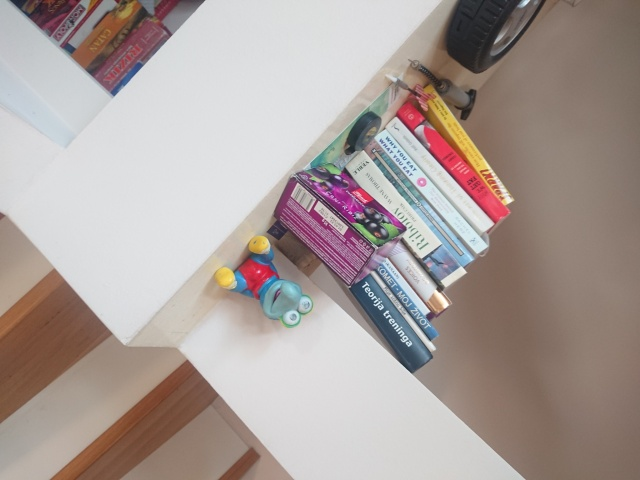Franck Black Currant Tea 60g: (271, 161, 408, 289)
